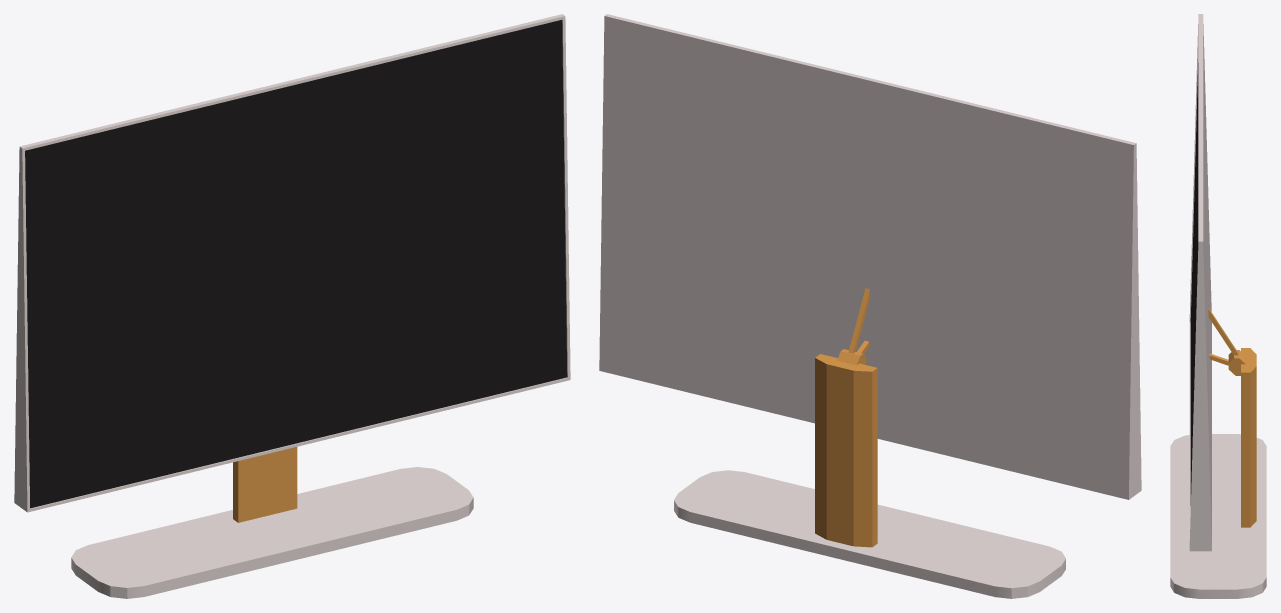
Rendered from Computer.fbx.
The picture shows the model from 3 angles, left to right: view 1: azimuth 30°, elevation 25°; view 2: azimuth 150°, elevation 25°; view 3: azimuth 270°, elevation 25°; orthographic projection. The views are drawn at different scales.
Parts seen in each view (by area): view 1: ecran; view 2: ecran; view 3: ecran.
Part boxes in pixels (left/top/right/bottom): ecran: left=14, top=14, right=570, bottom=598; ecran: left=599, top=14, right=1141, bottom=598; ecran: left=1170, top=14, right=1266, bottom=598.
Size of the model in its own units: 1 by 0.8134 by 0.1785.
